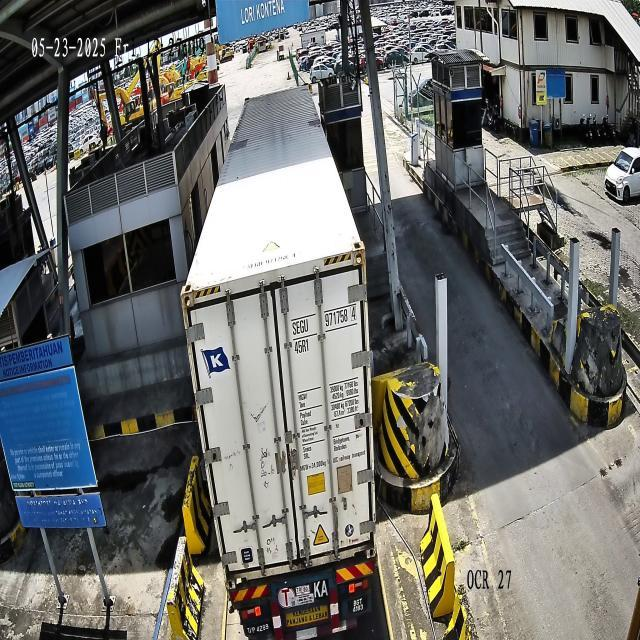ISO: (294, 338, 310, 355)
container_number: (292, 306, 358, 336)
